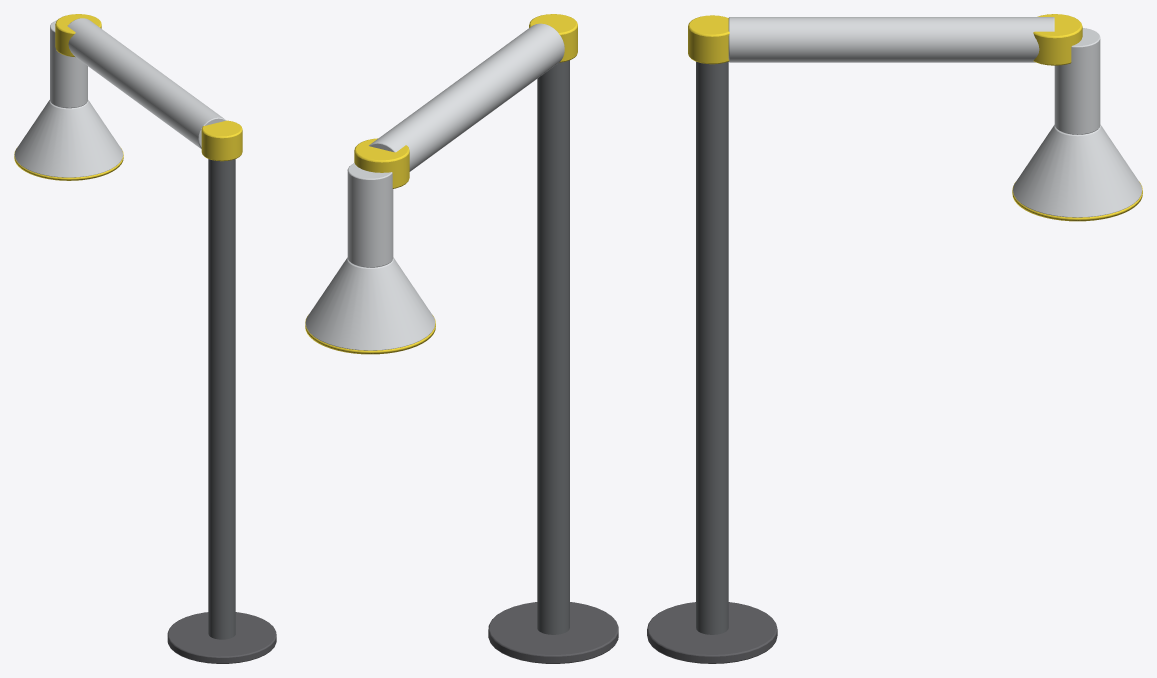
File: extractor_arm.glb
3 views of the same model, side by side, from view 1: azimuth 30°, elevation 25°; view 2: azimuth 150°, elevation 25°; view 3: azimuth 270°, elevation 25° (orthographic). The views are drawn at different scales.
Parts seen in each view (by area): view 1: extractor_arm; view 2: extractor_arm; view 3: extractor_arm.
Part boxes in pixels (x1,y1,x2,y2): extractor_arm: [14, 14, 276, 663]; extractor_arm: [305, 14, 618, 663]; extractor_arm: [647, 14, 1142, 663].
Size of the model in its own units: 0.4 by 2.09 by 1.52.
